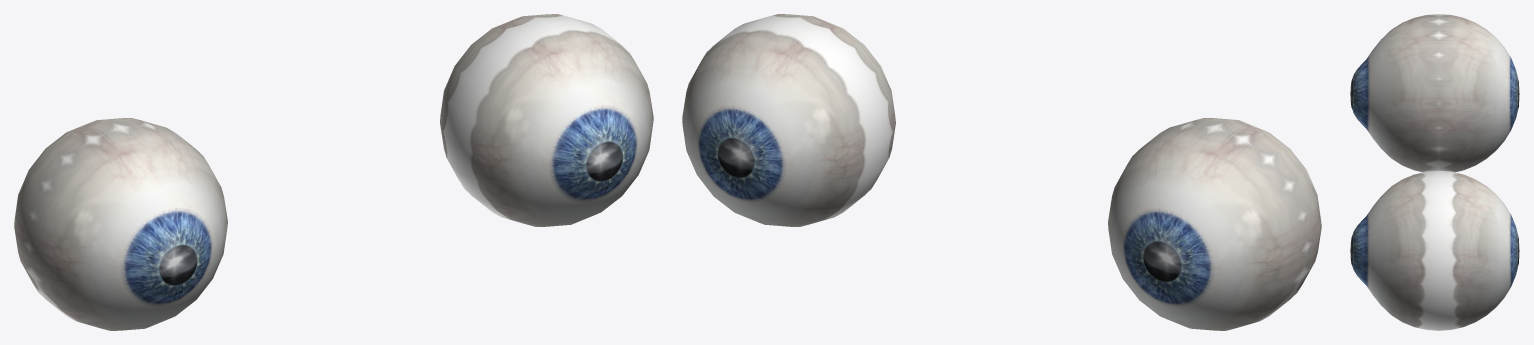
File: ojos.fbx
The picture shows the model from 3 angles, left to right: view 1: azimuth 30°, elevation 25°; view 2: azimuth 150°, elevation 25°; view 3: azimuth 270°, elevation 25°; orthographic projection. The views are drawn at different scales.
Parts seen in each view (by area): view 1: ojos; view 2: ojos; view 3: ojos.
Part boxes in pixels (x1,y1,x2,y2): ojos: (14, 14, 653, 330); ojos: (682, 14, 1321, 330); ojos: (1350, 14, 1519, 330).
Bounding box in the file's own units: 5.87 × 1.78 × 1.86.
